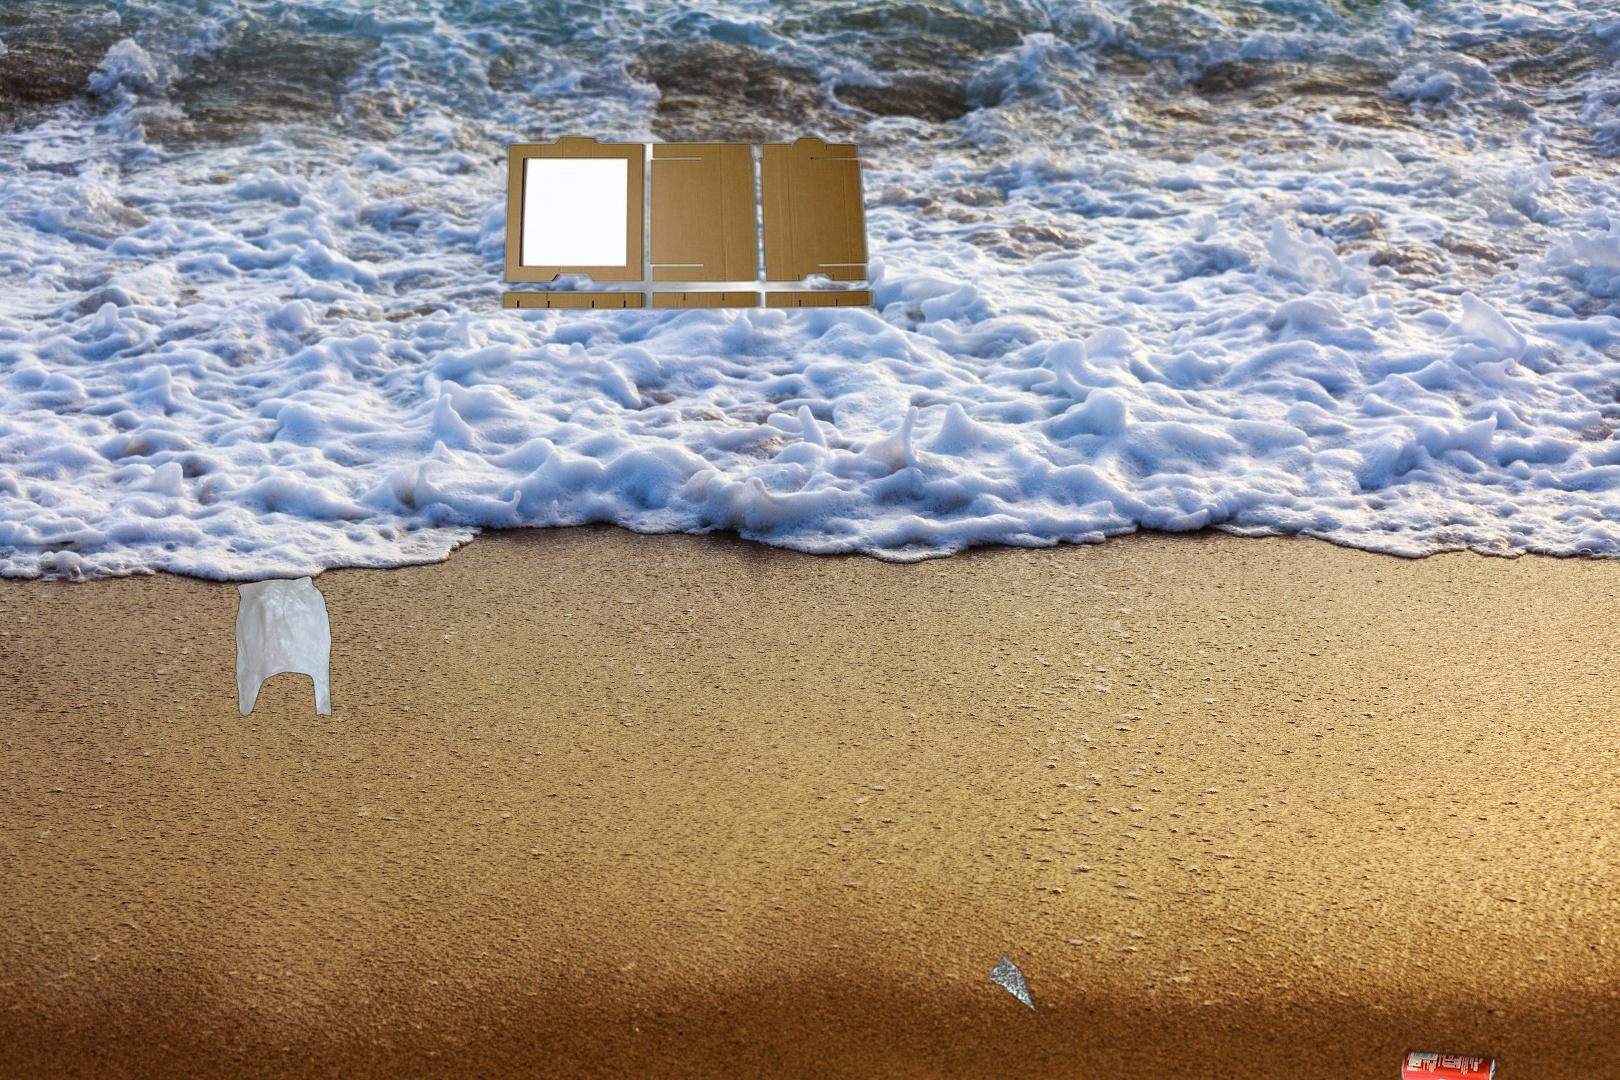metal-cans: (1396, 1045, 1502, 1080)
paper: (984, 943, 1053, 1016)
plastic-bag: (231, 573, 335, 720)
trashbox-cardboard: (497, 133, 880, 313)
